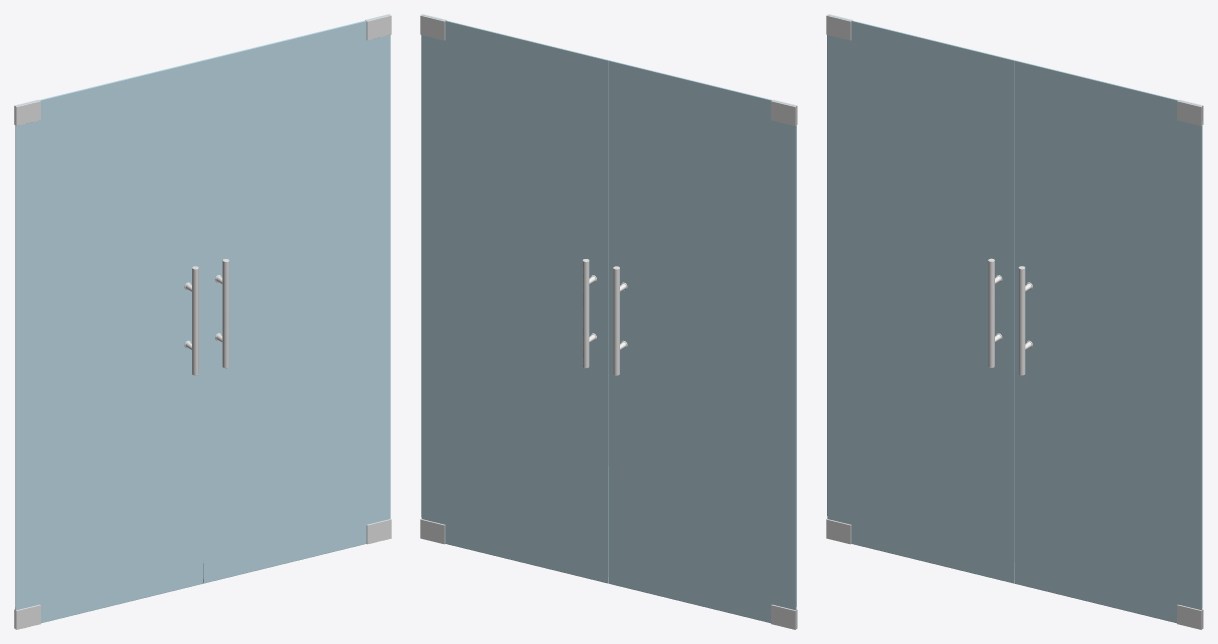
The model's file is glassdoor.obj.
3 views of the same model, side by side, from view 1: azimuth 30°, elevation 25°; view 2: azimuth 150°, elevation 25°; view 3: azimuth 330°, elevation 25° (orthographic).
Parts seen in each view (by area): view 1: ________1_2, ________1_1, ______1_1, ______1_3; view 2: ________1_2, ________1_1, ______1_2, ______1_4; view 3: ________1_1, ________1_2, ______1_1, ______1_3.
Part boxes in pixels (<box>): ________1_2: <box>14,60,203,629</box>; ________1_1: <box>203,14,391,583</box>; ______1_1: <box>222,259,229,368</box>; ______1_3: <box>192,266,198,375</box>; ________1_2: <box>582,60,797,629</box>; ________1_1: <box>420,14,608,583</box>; ______1_2: <box>582,259,589,368</box>; ______1_4: <box>613,266,619,375</box>; ________1_1: <box>1014,60,1203,629</box>; ________1_2: <box>826,14,1014,583</box>; ______1_1: <box>1018,266,1025,375</box>; ______1_3: <box>988,258,994,367</box>.
Size of the model in its own units: 1799 by 2396 by 163.
2 materials, 2 textured.
